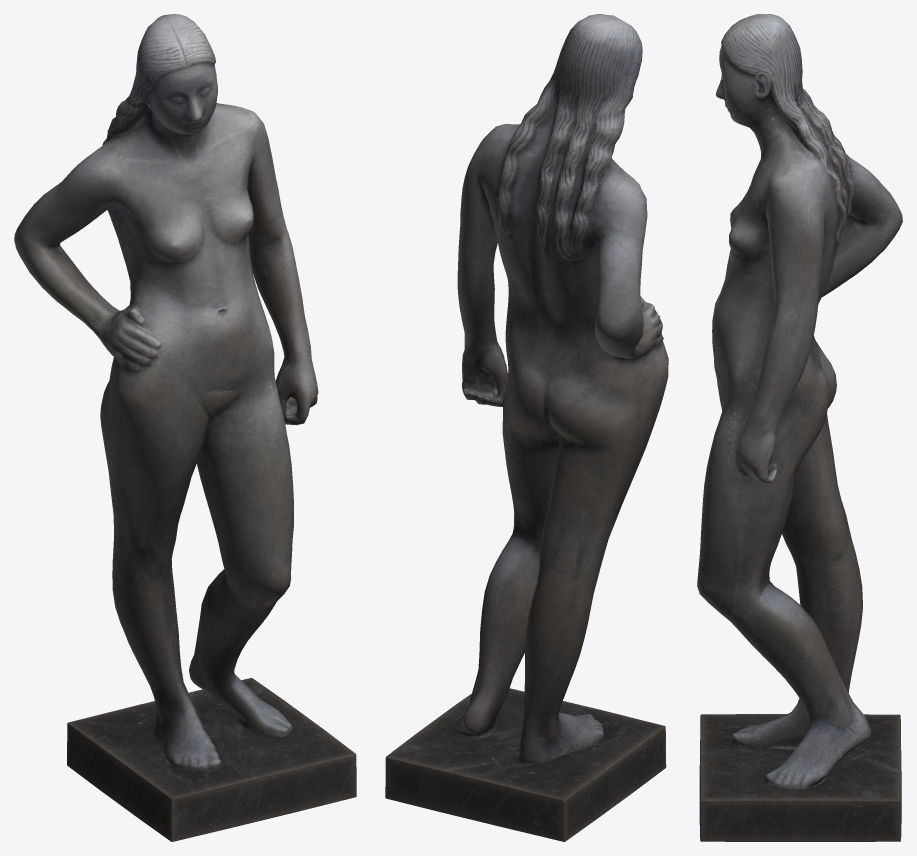
File: Freya.glb
3 renders of one model, left to right at view 1: azimuth 30°, elevation 25°; view 2: azimuth 150°, elevation 25°; view 3: azimuth 270°, elevation 25°, orthographic. The views are drawn at different scales.
Parts seen in each view (by area): view 1: Freya_low, Base_low; view 2: Freya_low, Base_low; view 3: Freya_low, Base_low.
Part boxes in pixels (x1,y1,x2,y2): Freya_low: (14,14,318,772); Base_low: (67,678,356,841); Freya_low: (453,14,668,764); Base_low: (385,688,666,841); Freya_low: (697,14,902,789); Base_low: (699,714,901,841).
Bounding box in the file's own units: 0.6031 × 1.85 × 0.456.
1 material, 1 textured.
